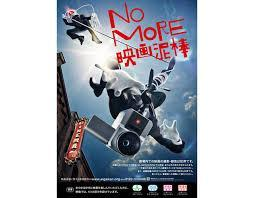no more kid: (84, 107, 155, 160)
